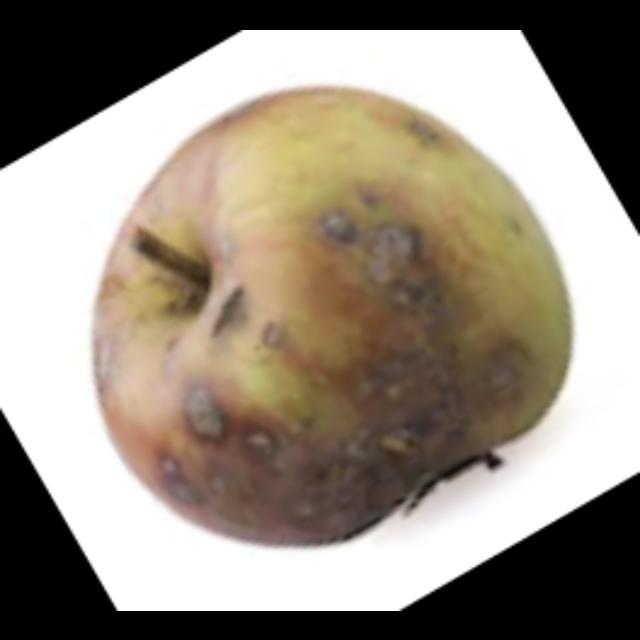Apel Tidak Segar: (86, 80, 578, 552)
